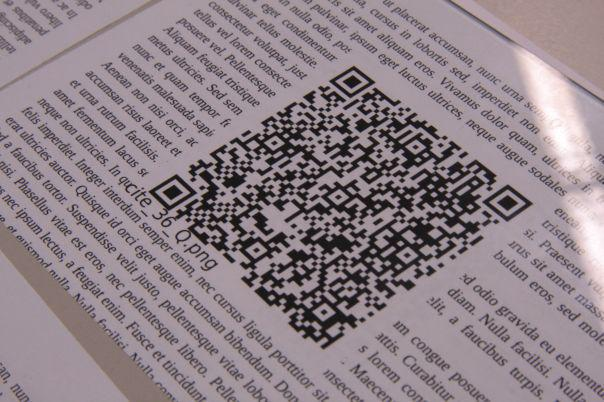Finder pattern: (480, 183, 533, 224), (149, 173, 197, 208), (328, 65, 377, 98)
